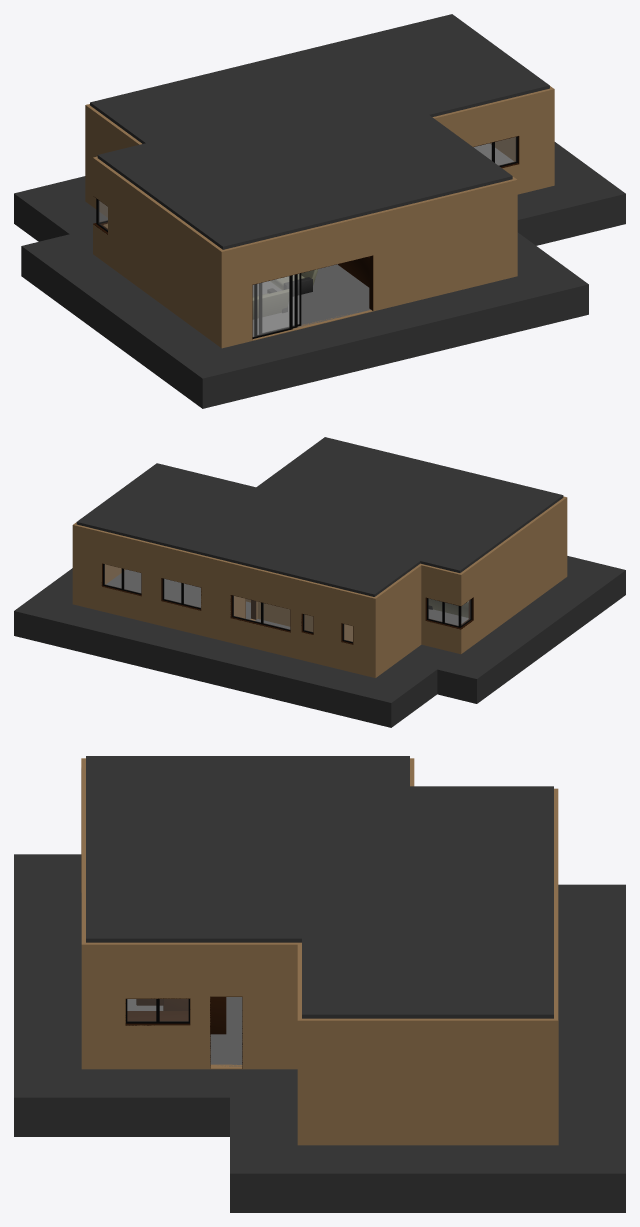
Rendered from House1.glb.
The picture shows the model from 3 angles, top to bottom: view 1: azimuth 30°, elevation 25°; view 2: azimuth 150°, elevation 25°; view 3: azimuth 270°, elevation 25°; orthographic projection. The views are drawn at different scales.
Parts seen in each view (by area): view 1: roof, 1.001, walls, 1, walls.012, walls.011, walls.004, Cube.019, walls.001, Cube.015, Kitchen; view 2: roof, walls, 1.001, walls.004, 1, walls.001, walls.002, Cube.016; view 3: roof, 1.001, walls, 1, Kitchen, walls.004.
Boxes of the visible parts, x1,y1,x2,y2 form: roof: (90, 14, 549, 249); 1.001: (14, 142, 625, 408); walls: (85, 86, 554, 348); 1: (252, 143, 513, 336); walls.012: (253, 276, 289, 336); walls.011: (258, 275, 294, 334); walls.004: (98, 137, 515, 229); Cube.019: (252, 288, 288, 319); walls.001: (93, 136, 519, 339); Cube.015: (270, 269, 318, 296); Kitchen: (338, 256, 369, 287); roof: (76, 437, 563, 596); walls: (72, 496, 567, 677); 1.001: (14, 556, 625, 727); walls.004: (104, 564, 470, 641); 1: (106, 569, 468, 629); walls.001: (101, 563, 473, 644); walls.002: (103, 564, 471, 643); Cube.016: (428, 598, 468, 617); roof: (86, 756, 553, 1018); 1.001: (14, 854, 625, 1212); walls: (81, 758, 558, 1145); 1: (127, 997, 242, 1066); Kitchen: (127, 997, 226, 1034); walls.004: (127, 999, 188, 1021).
Bounding box in the file's own units: 21 × 5.15 × 17.
